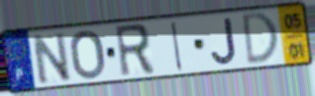D: (241, 10, 280, 68)
I: (170, 19, 185, 74)
J: (210, 16, 239, 67)
N: (30, 30, 74, 87)
O: (68, 28, 107, 81)
R: (113, 21, 157, 80)
